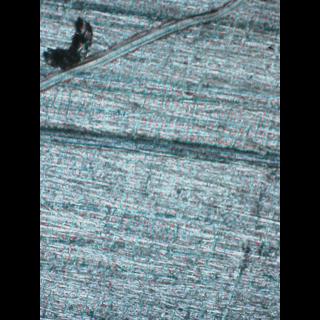d: (40, 0, 254, 93)
